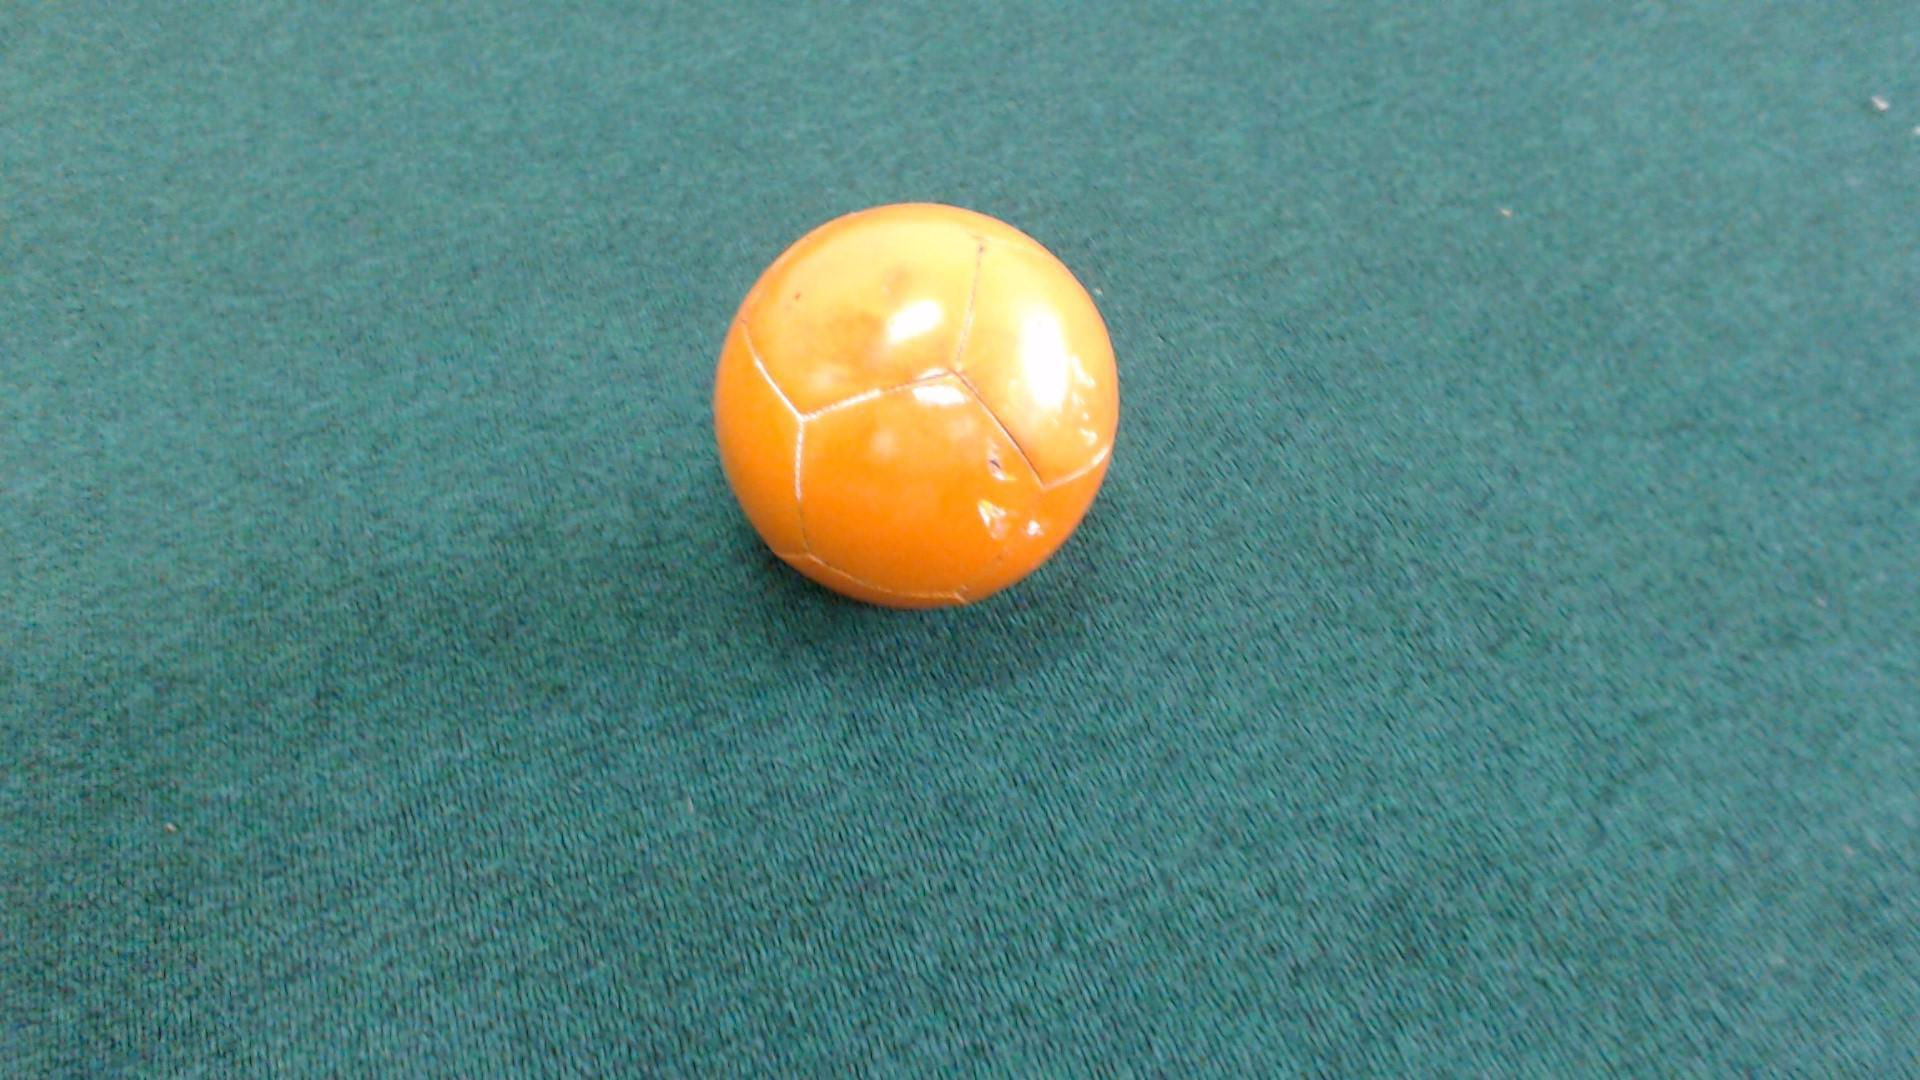bola: (651, 124, 1171, 720)
